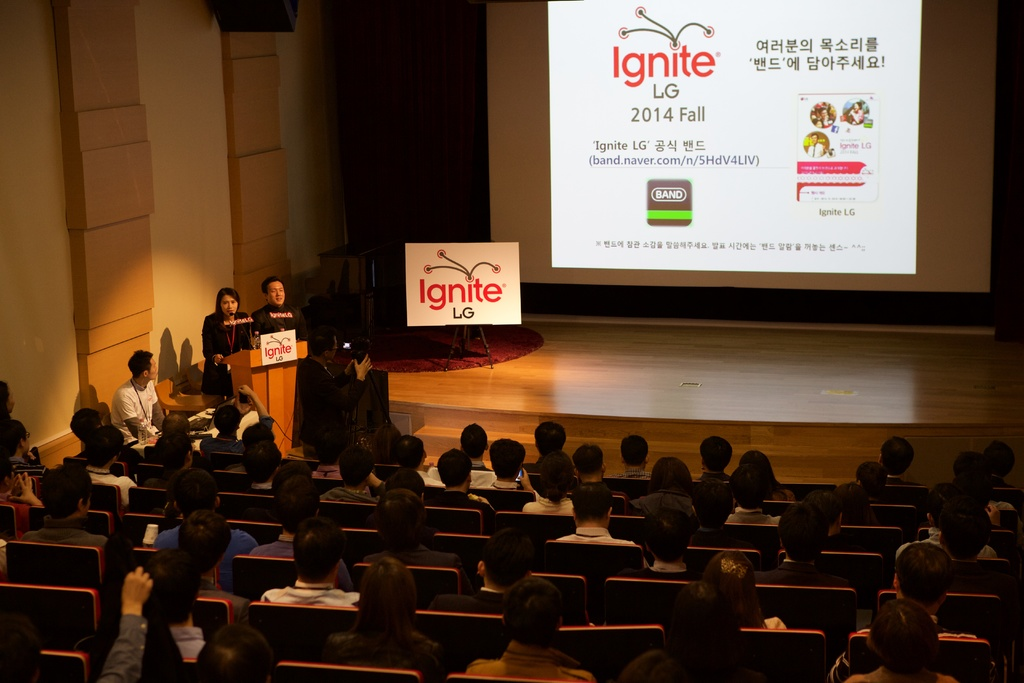Human_hand: (118, 566, 154, 616), (5, 472, 35, 504), (984, 502, 1002, 528), (354, 354, 372, 375), (211, 352, 227, 368)
